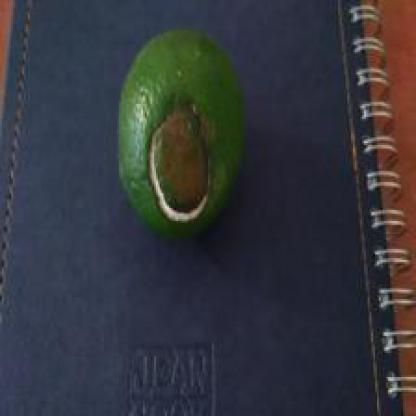orange_rotten: (78, 15, 307, 262)
